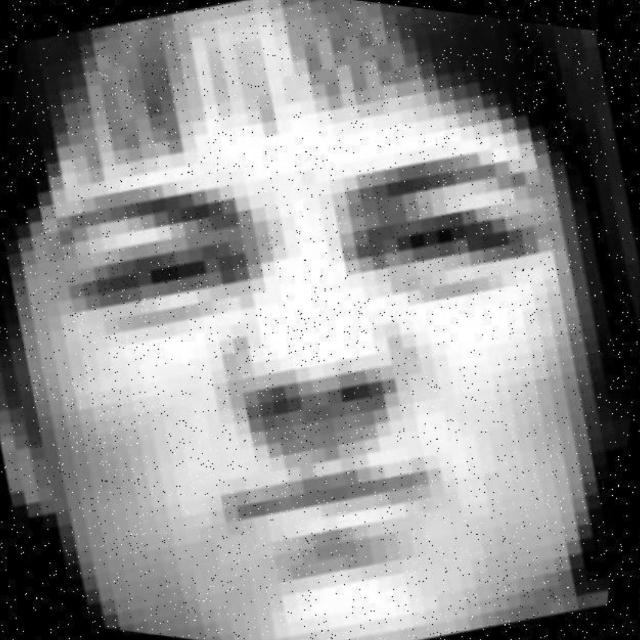Disgust: (10, 34, 640, 617)
